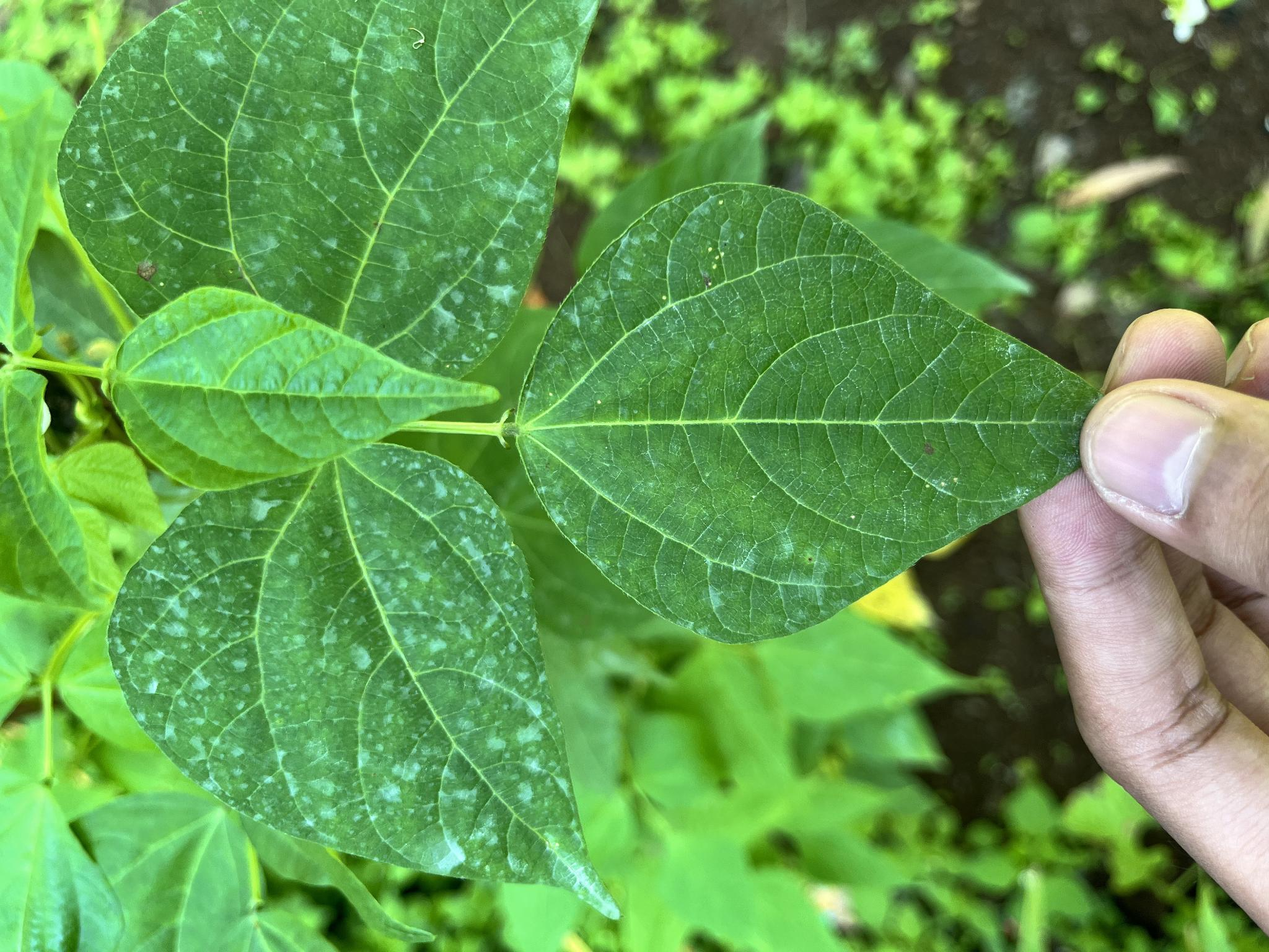embun tepung: (85, 505, 692, 925)
